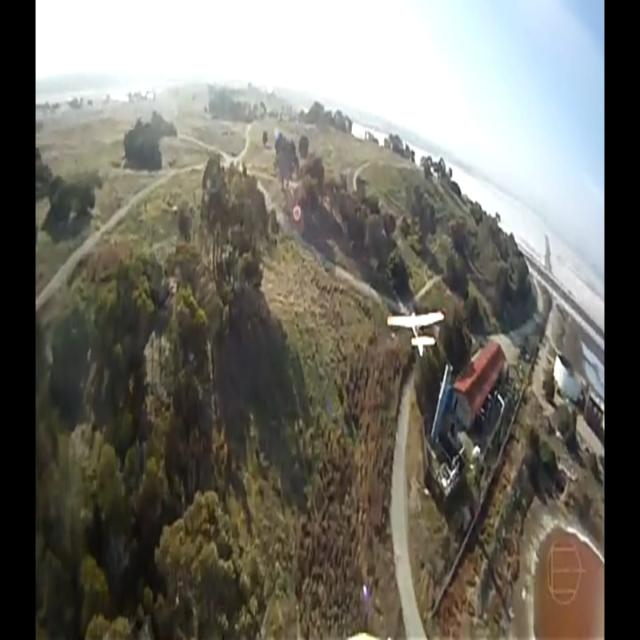iha: (385, 309, 445, 358)
